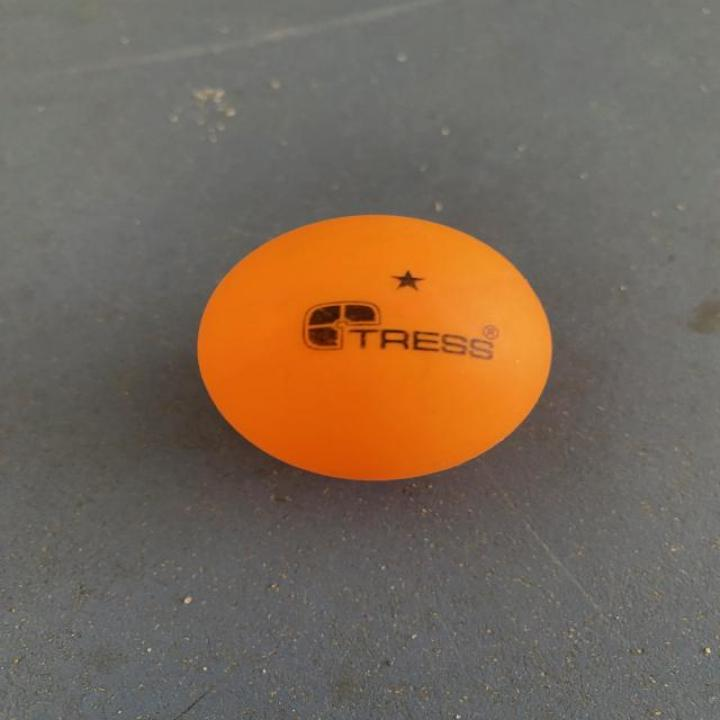orange: (179, 196, 565, 490)
